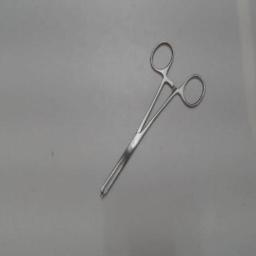Allis Tissue Forceps: (94, 35, 210, 203)
